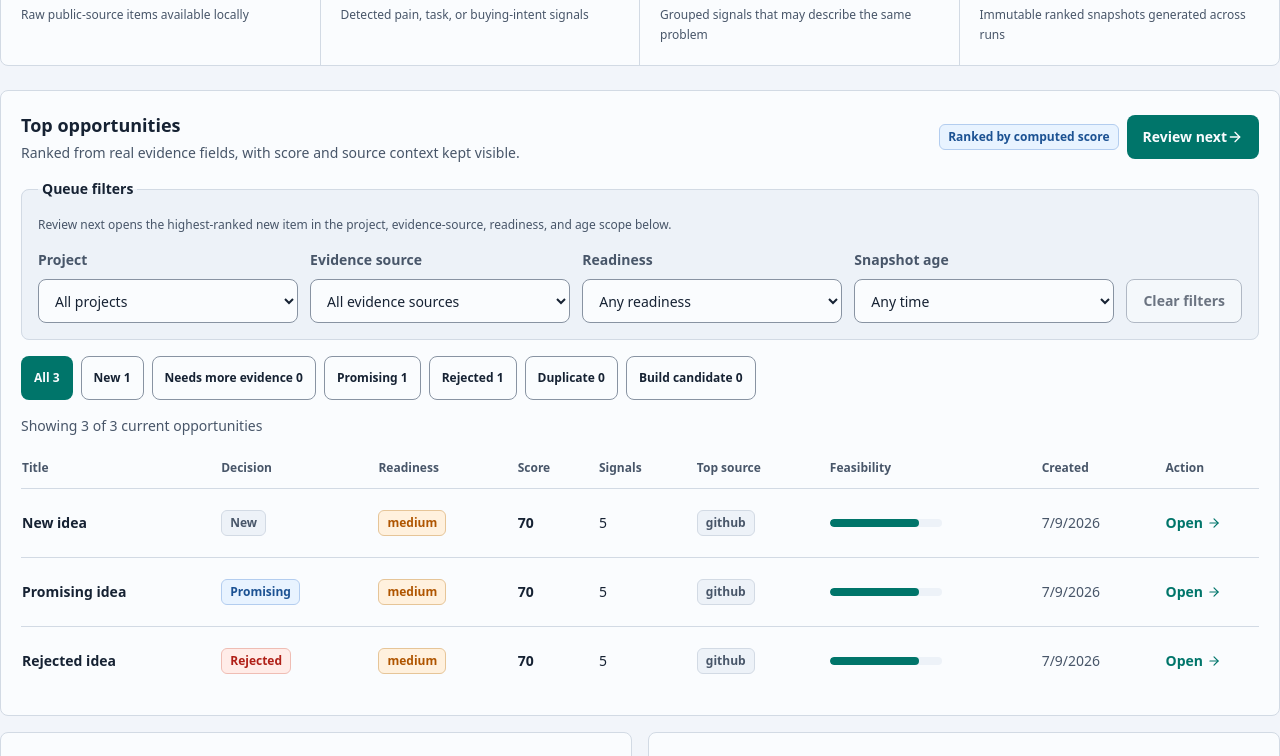
it: Dashboard › filters the decision queue through the API
This screenshot has width=1280, height=756.
(page scrolled)
Expected: the link "Promising idea" is shown, [22,582,126,601]
Expected: the element named "Decision state filter" is shown, [21,356,756,400]
Click the button "Promising 1": (372, 378) [324,356,421,400]
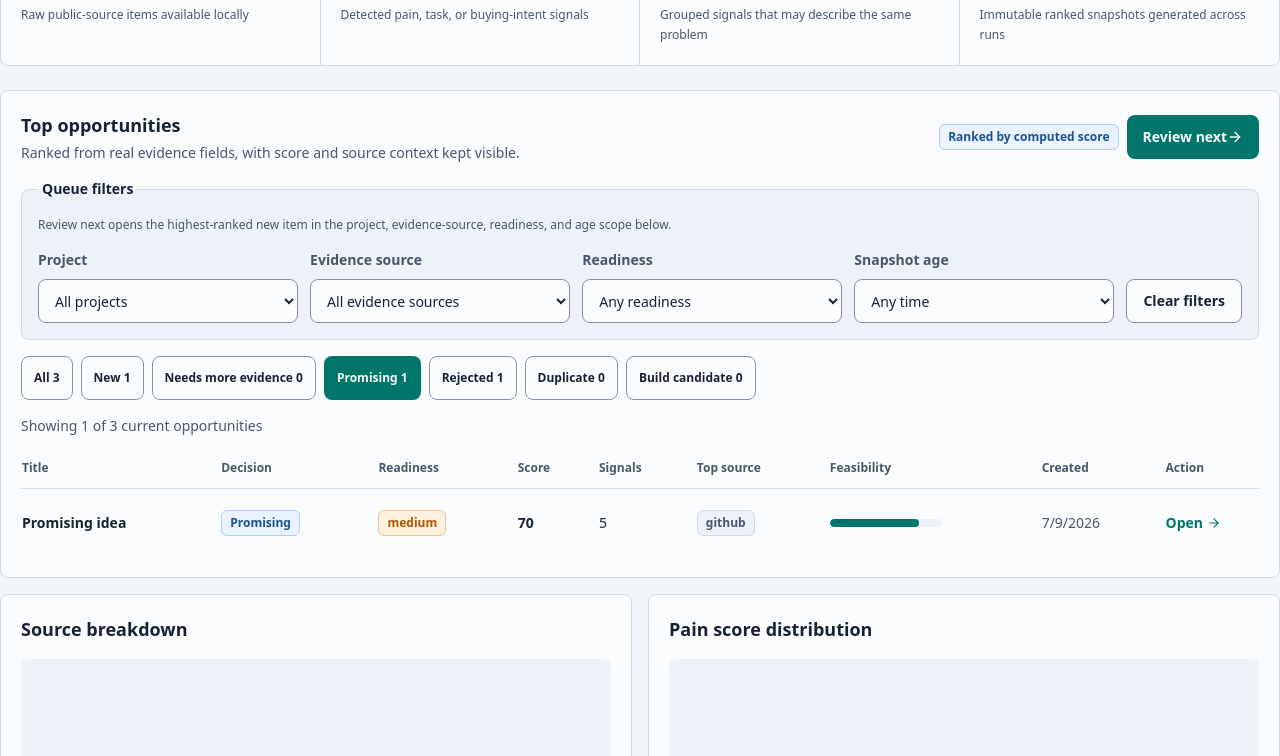
Expected: the link "Promising idea" is shown, [22,513,126,532]
Expected: the link "New idea" is gone
Expected: the link "Rejected idea" is gone
Click the button "Build candidate 0": (691, 378) [626,356,756,400]
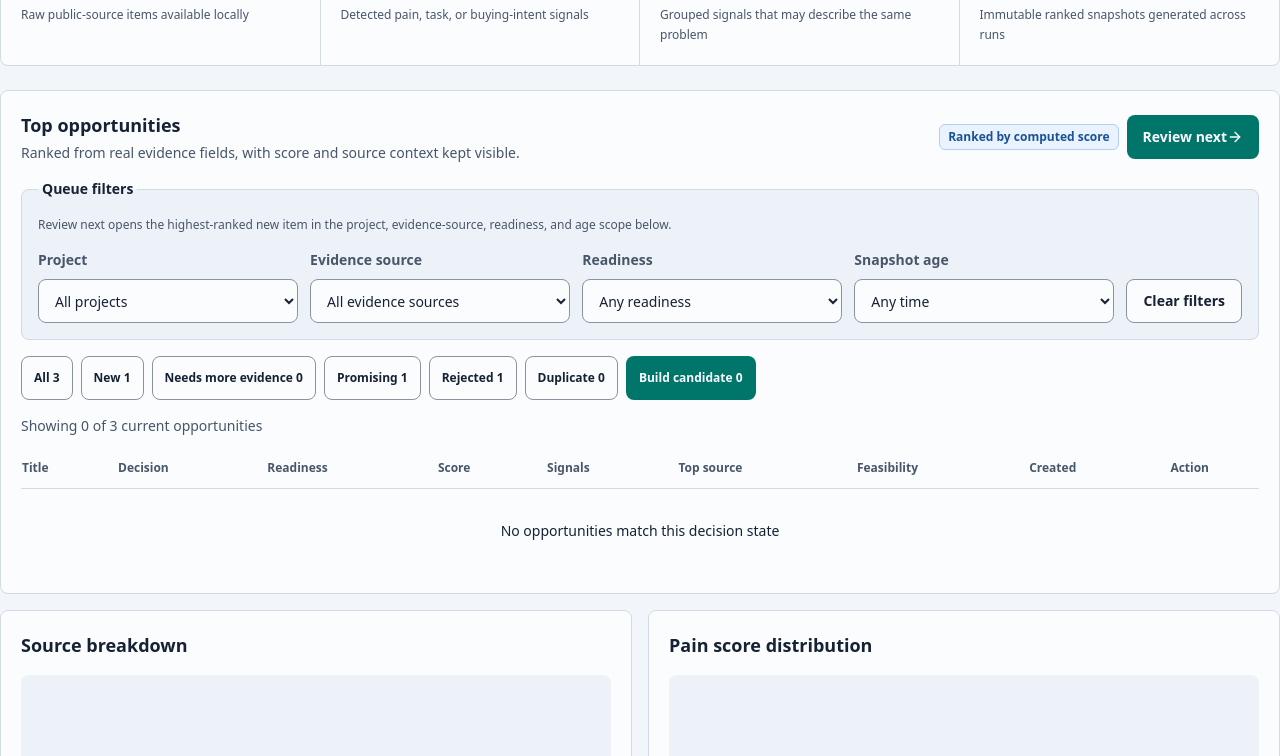
Expected: the text "No opportunities match this decision state" is shown, [21,489,1259,573]
